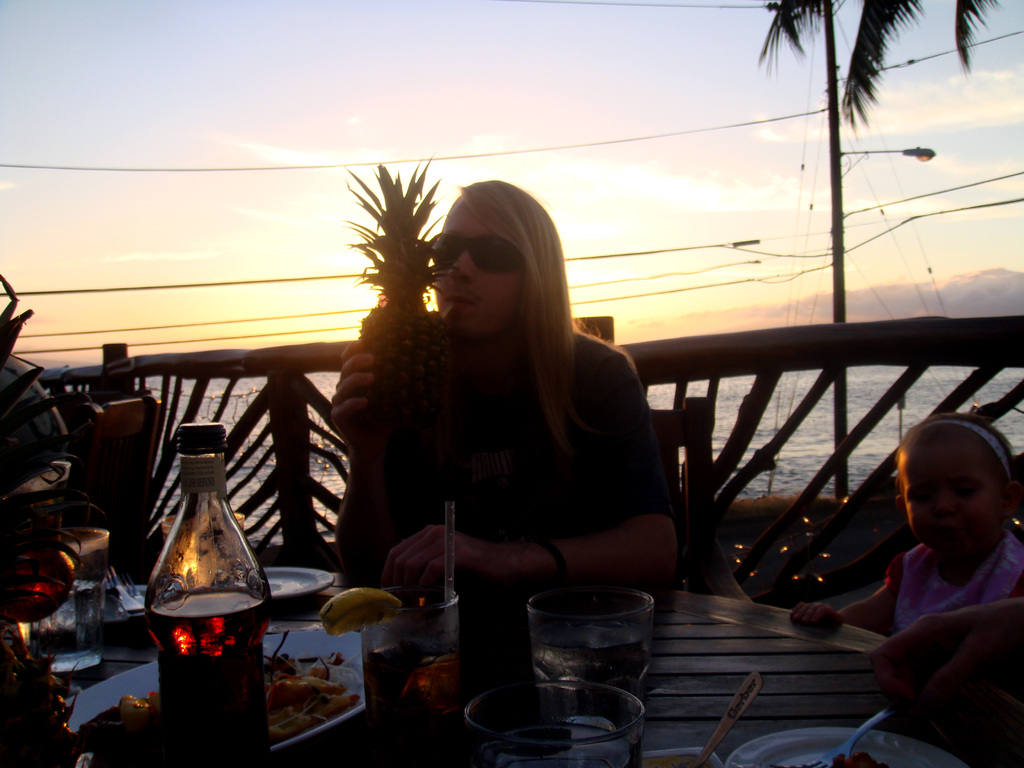Human-face: (901, 442, 1009, 564), (436, 203, 523, 340)
